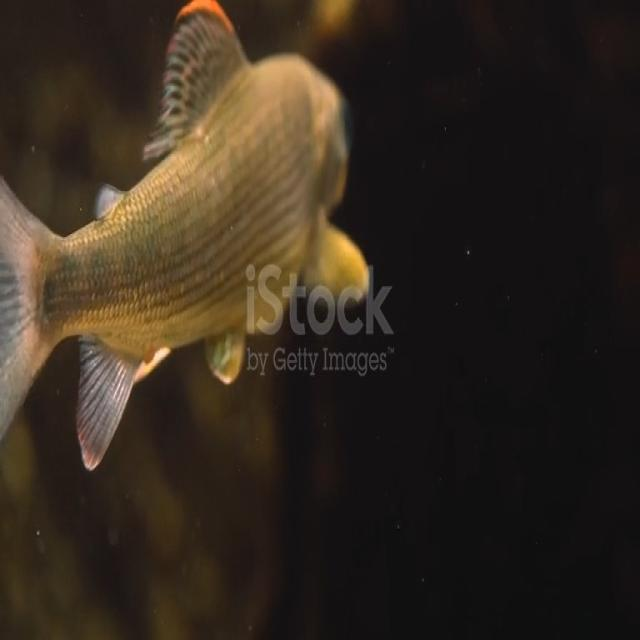fish: (0, 0, 370, 476)
